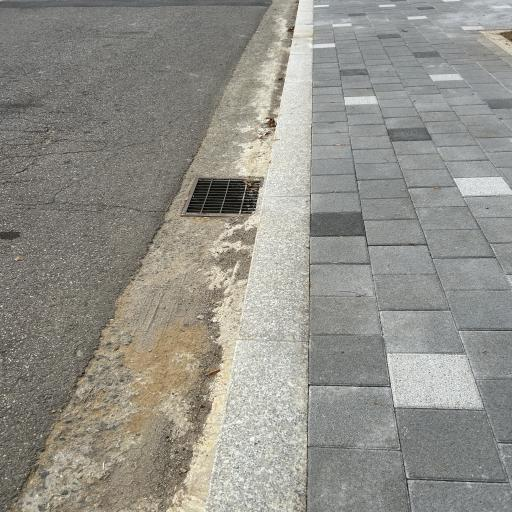drain: (182, 177, 261, 216)
